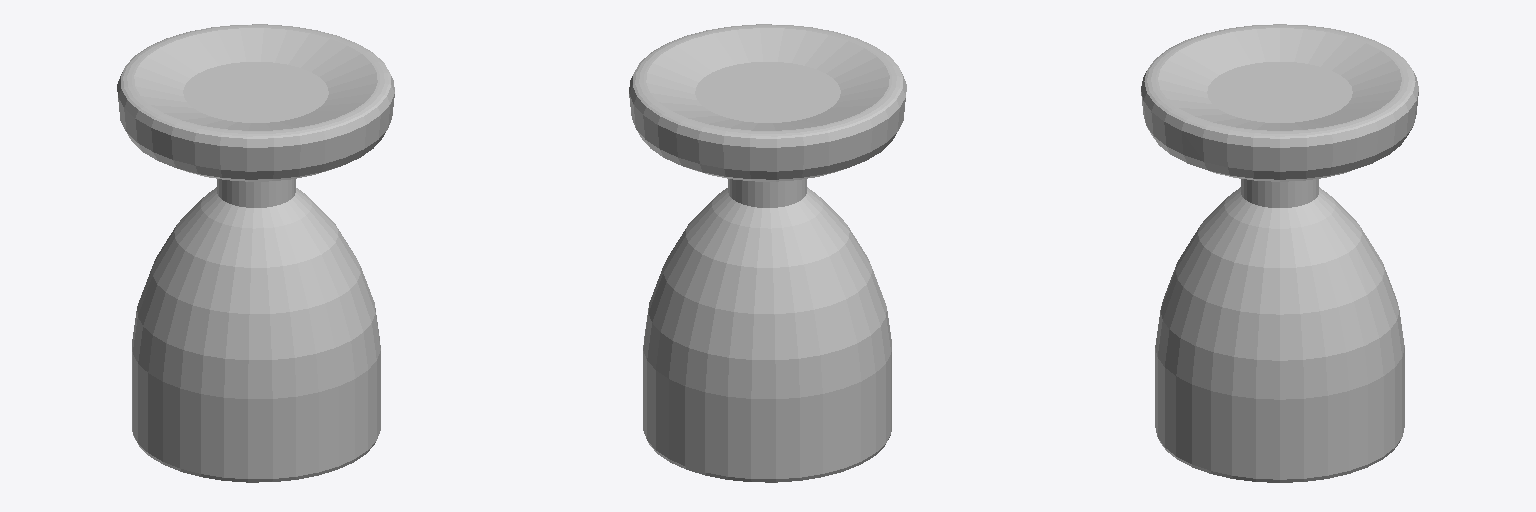
Rendered from SetA_Misc_01.obj.
The picture shows the model from 3 angles: view 1: azimuth 30°, elevation 25°; view 2: azimuth 150°, elevation 25°; view 3: azimuth 270°, elevation 25°; orthographic projection.
Visible parts, largest first — view 1: SetA_Misc_01; view 2: SetA_Misc_01; view 3: SetA_Misc_01.
Boxes of the visible parts, x1=… form: SetA_Misc_01: x1=117, y1=24, x2=394, y2=482; SetA_Misc_01: x1=629, y1=24, x2=906, y2=482; SetA_Misc_01: x1=1141, y1=24, x2=1418, y2=482.
Bounding box in the file's own units: 0.1024 × 0.1432 × 0.1024.